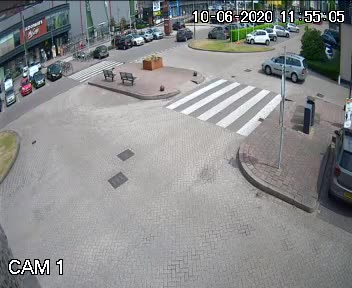car: (257, 49, 306, 84), (177, 24, 195, 43), (170, 19, 185, 29)
